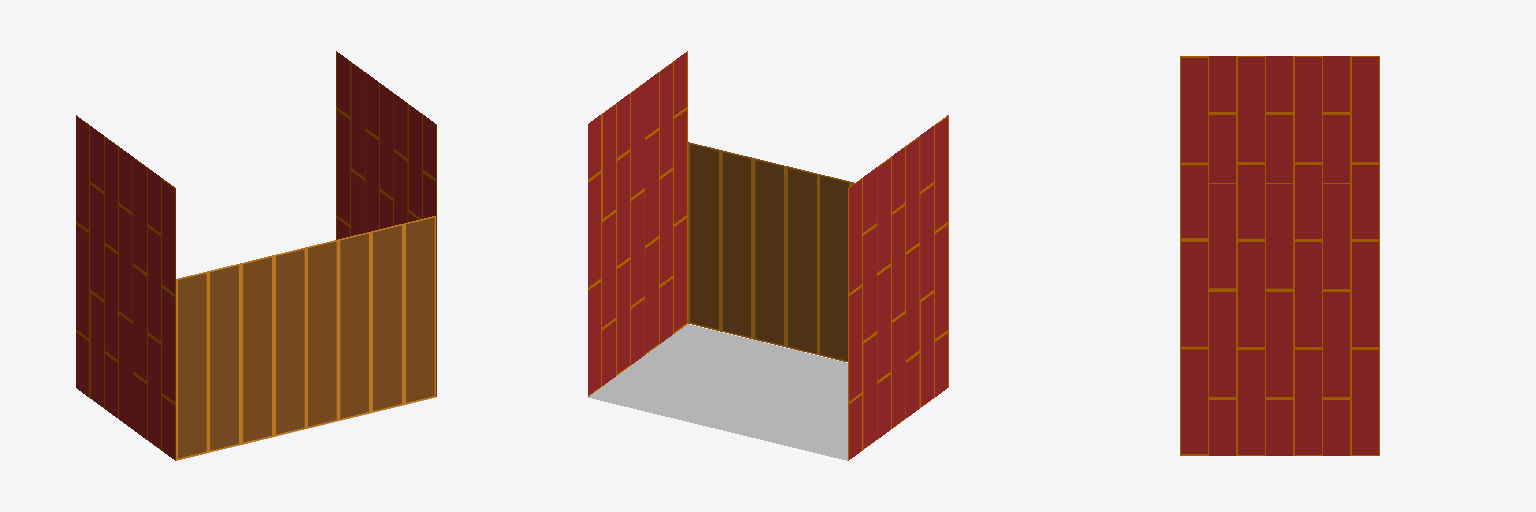
The picture shows the model from 3 angles: view 1: azimuth 30°, elevation 25°; view 2: azimuth 150°, elevation 25°; view 3: azimuth 270°, elevation 25°; orthographic projection.
Parts seen in each view (by area): view 1: Plane, Plane.003, Plane.001; view 2: Plane, Plane.003, Plane.001, Plane.002; view 3: Plane.001, Plane.003.
Boxes of the visible parts, x1=… form: Plane: x1=176, y1=216, x2=435, y2=460; Plane.003: x1=76, y1=115, x2=175, y2=460; Plane.001: x1=336, y1=51, x2=436, y2=396; Plane: x1=688, y1=142, x2=853, y2=361; Plane.003: x1=848, y1=115, x2=948, y2=460; Plane.001: x1=588, y1=51, x2=687, y2=396; Plane.002: x1=588, y1=324, x2=847, y2=460; Plane.001: x1=1180, y1=183, x2=1379, y2=455; Plane.003: x1=1180, y1=56, x2=1379, y2=182.
Size of the model in its own units: 6 by 6 by 4.
Materials: 4 (2 with a texture image).